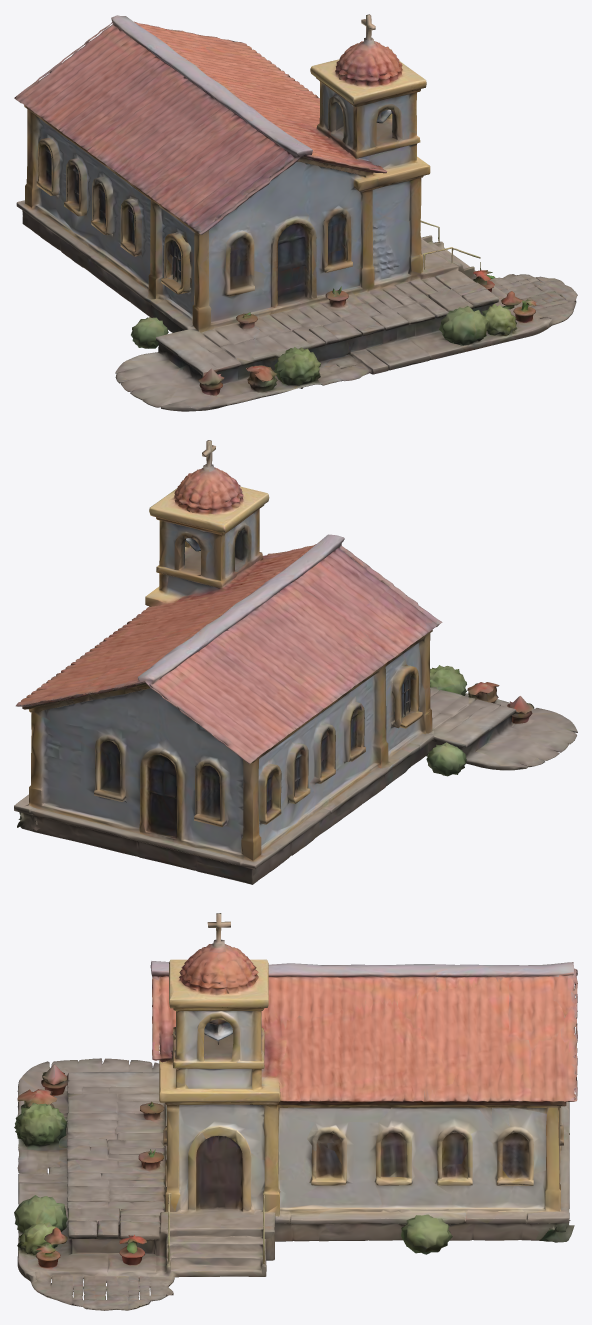
Rendered from cid_igreja.glb.
The picture shows the model from 3 angles, top to bottom: view 1: azimuth 30°, elevation 25°; view 2: azimuth 150°, elevation 25°; view 3: azimuth 270°, elevation 25°; orthographic projection. The views are drawn at different scales.
Parts seen in each view (by area): view 1: tripo_node_a2dd5af5-1826-44e1-bcd9-05e6c18e276c; view 2: tripo_node_a2dd5af5-1826-44e1-bcd9-05e6c18e276c; view 3: tripo_node_a2dd5af5-1826-44e1-bcd9-05e6c18e276c.
Boxes of the visible parts, x1,y1,x2,y2 form: tripo_node_a2dd5af5-1826-44e1-bcd9-05e6c18e276c: (14, 14, 577, 411); tripo_node_a2dd5af5-1826-44e1-bcd9-05e6c18e276c: (14, 440, 577, 884); tripo_node_a2dd5af5-1826-44e1-bcd9-05e6c18e276c: (14, 913, 577, 1310).
Size of the model in its own units: 0.9956 by 0.5921 by 0.963.
Materials: 1 (1 with a texture image).
